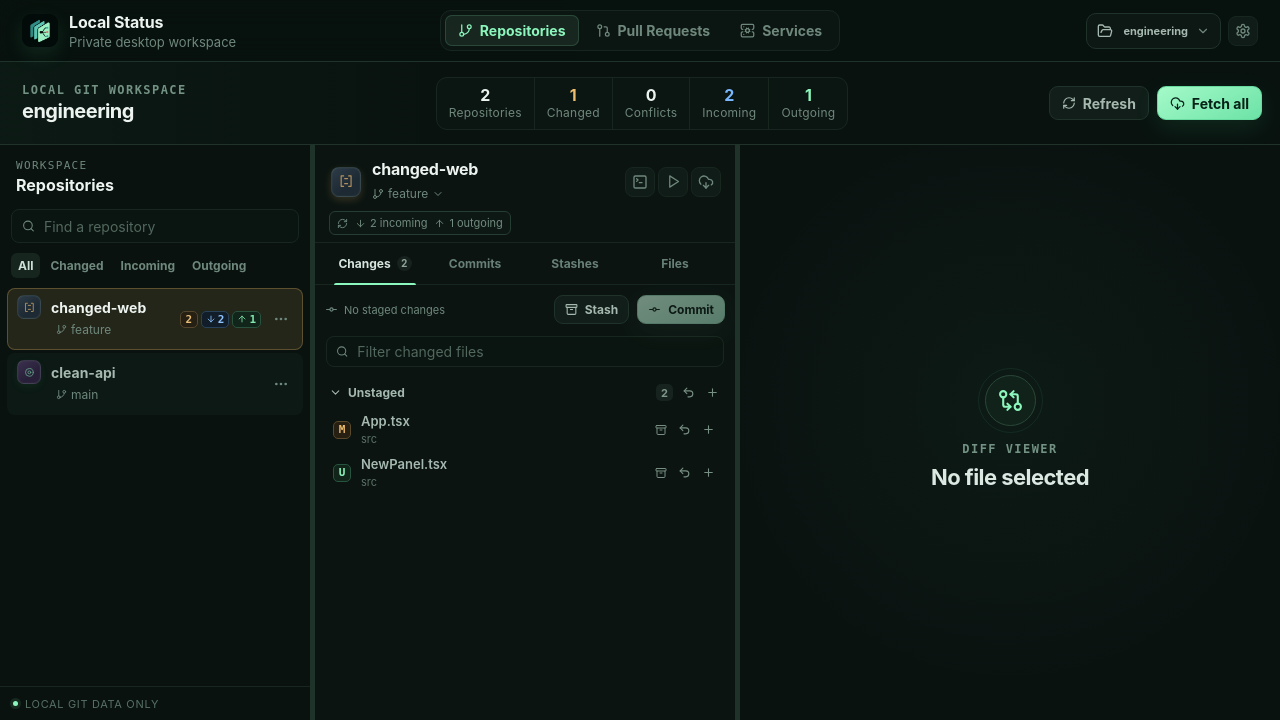
Test: Local Status › persists panel widths and starts a repository terminal
The image size is (1280, 720).
Expected: the text "changed-web" is shown, top-left (51, 298), bottom-right (146, 316)
Click the button named "Uncommitted changes changed-web".
click(99, 307)  # box top-left (7, 288), bottom-right (303, 350)
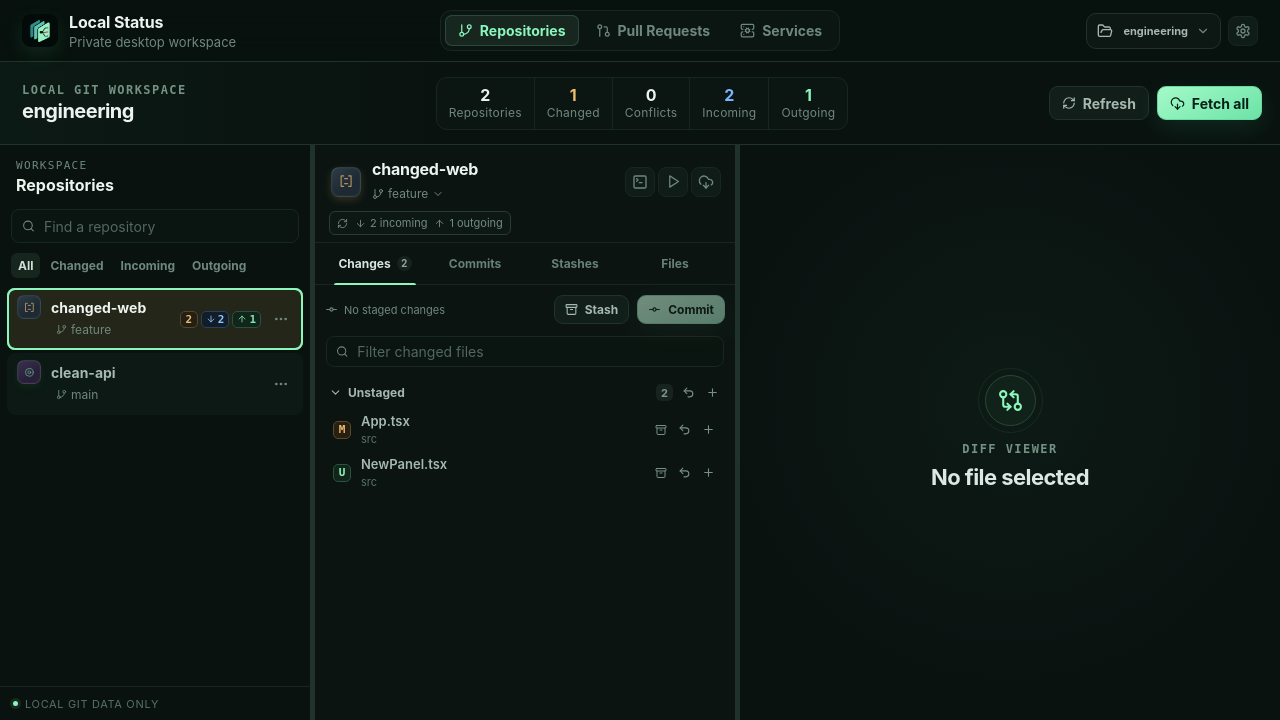
Click the button named "New terminal in this repository".
click(640, 182)  # box top-left (625, 166), bottom-right (655, 196)
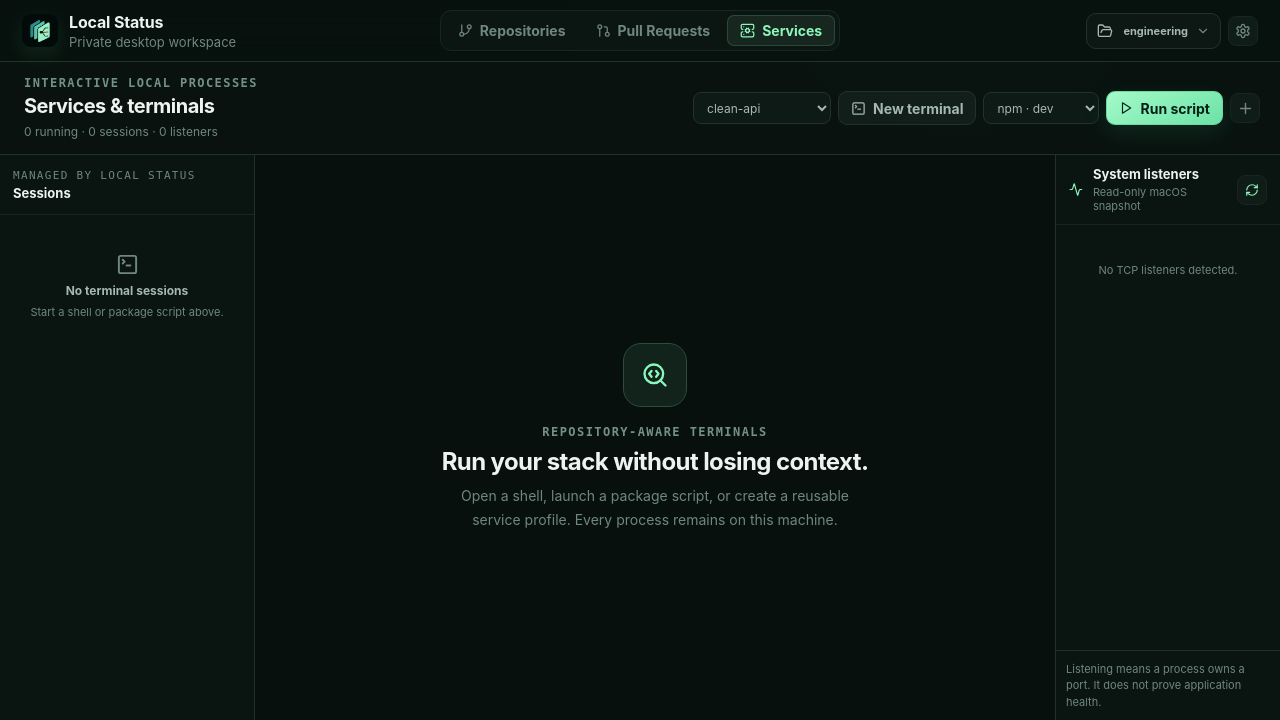
Expected: the heading "Services & terminals" is shown, top-left (24, 94), bottom-right (214, 118)
